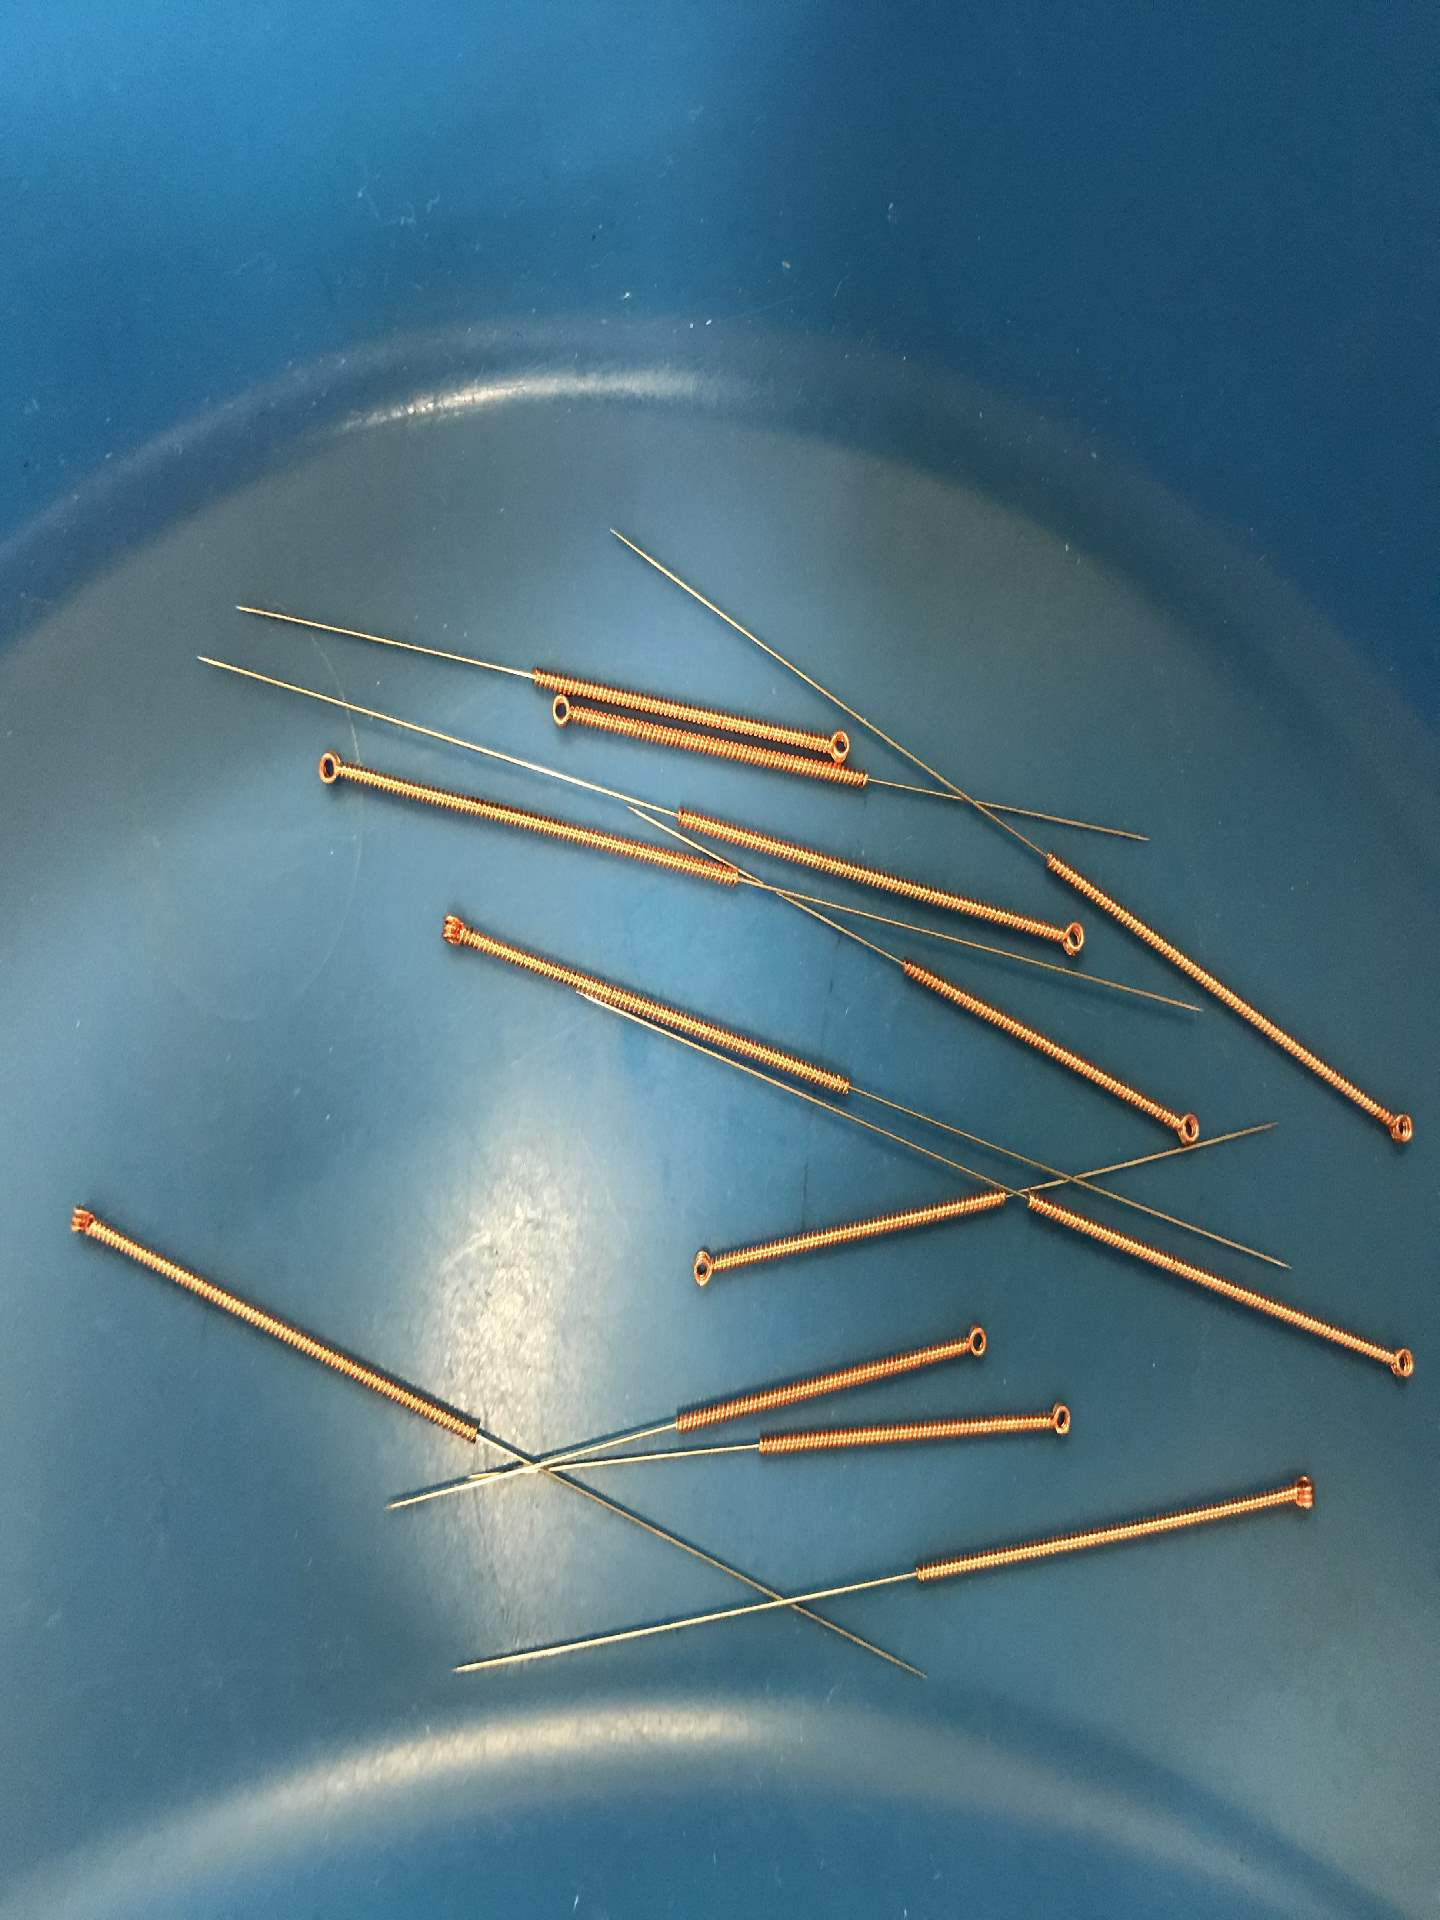needle: (1271, 1460, 1333, 1525), (51, 1191, 113, 1250), (427, 900, 483, 963), (675, 1238, 734, 1297), (299, 742, 355, 800), (1032, 1392, 1085, 1451), (1370, 1101, 1426, 1155), (1045, 912, 1097, 968), (1376, 1335, 1425, 1394), (951, 1315, 1001, 1368), (1157, 1104, 1210, 1152), (537, 689, 584, 735), (818, 720, 858, 766)
